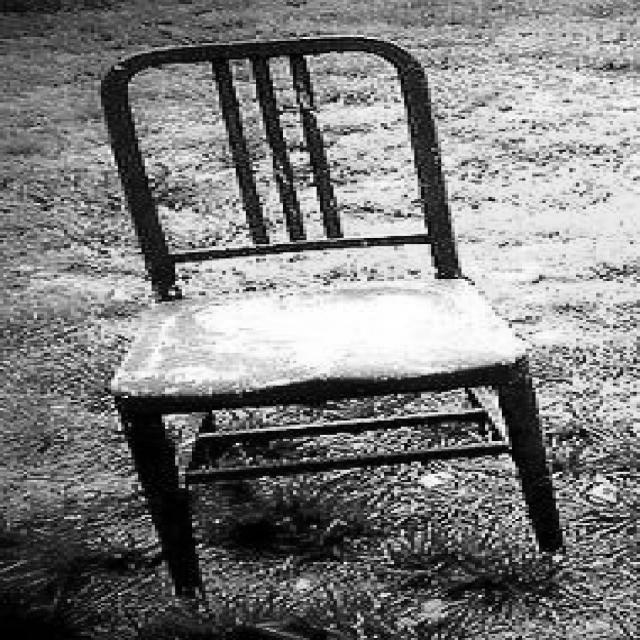chair: (62, 33, 563, 603)
